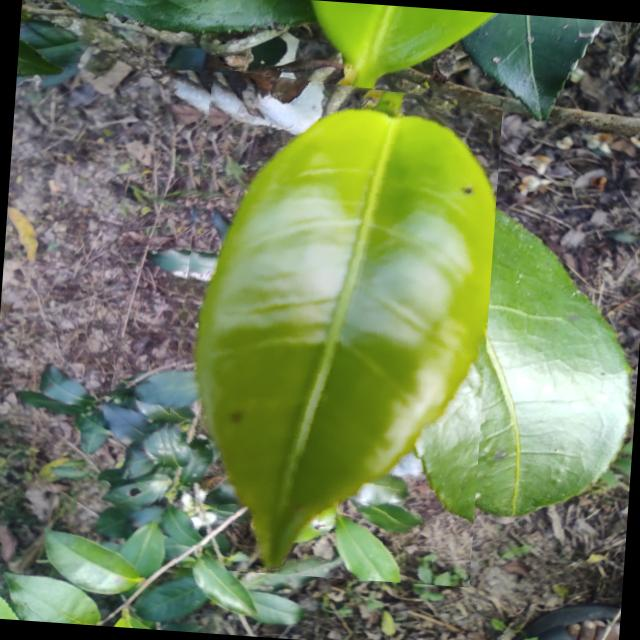Category B(2-4 days): (150, 65, 503, 586)
